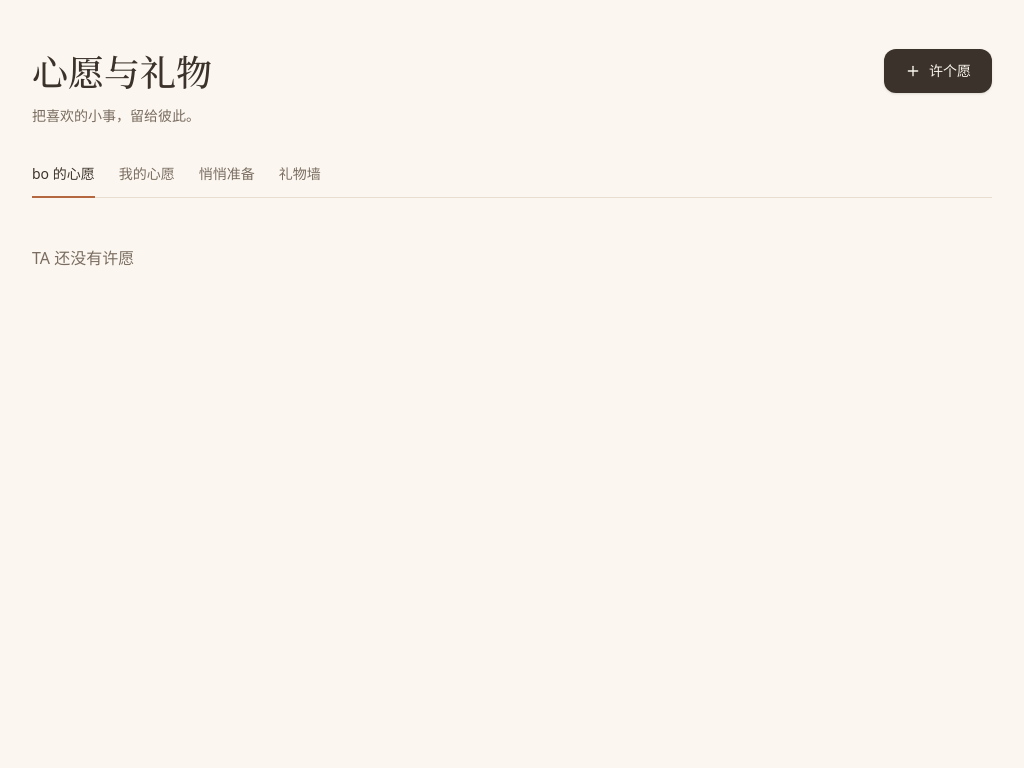
WishesPage › [adr:digital-paper-interface#2] adds a wish from its dialog, keeping what was typed when closed unsent, then shows my list
Click the button "许个愿" at [938, 70], box [884,48,992,92]
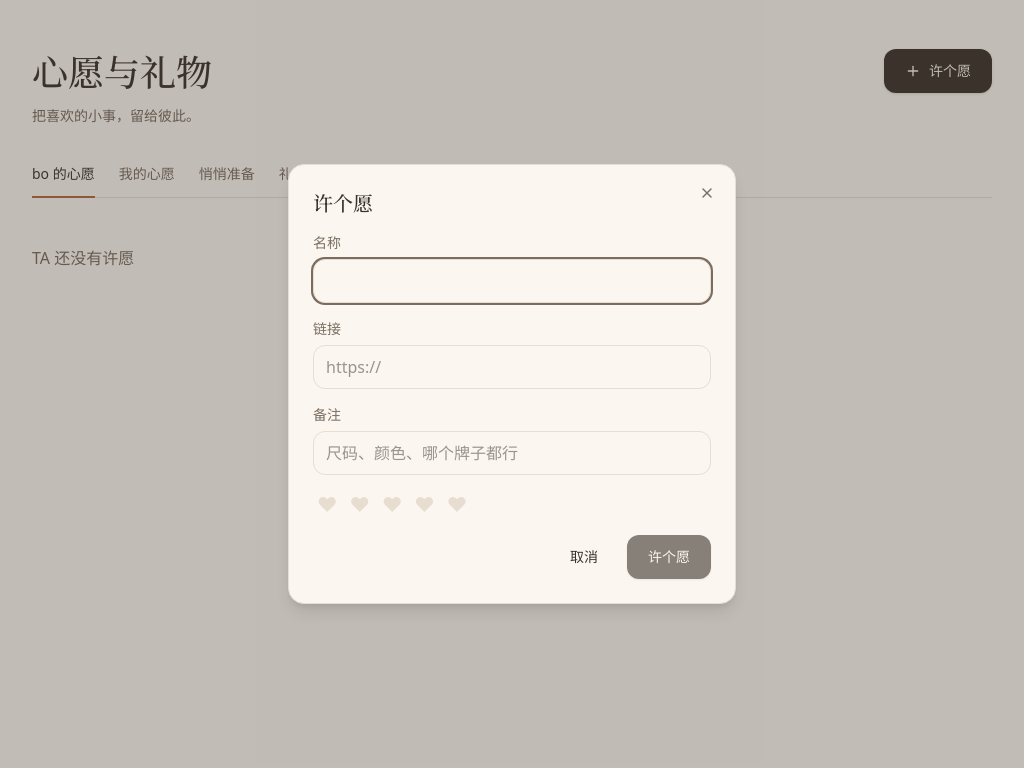
Type "灰色围巾" into the field labelled "名称" at [512, 281], box [313,259,711,303]
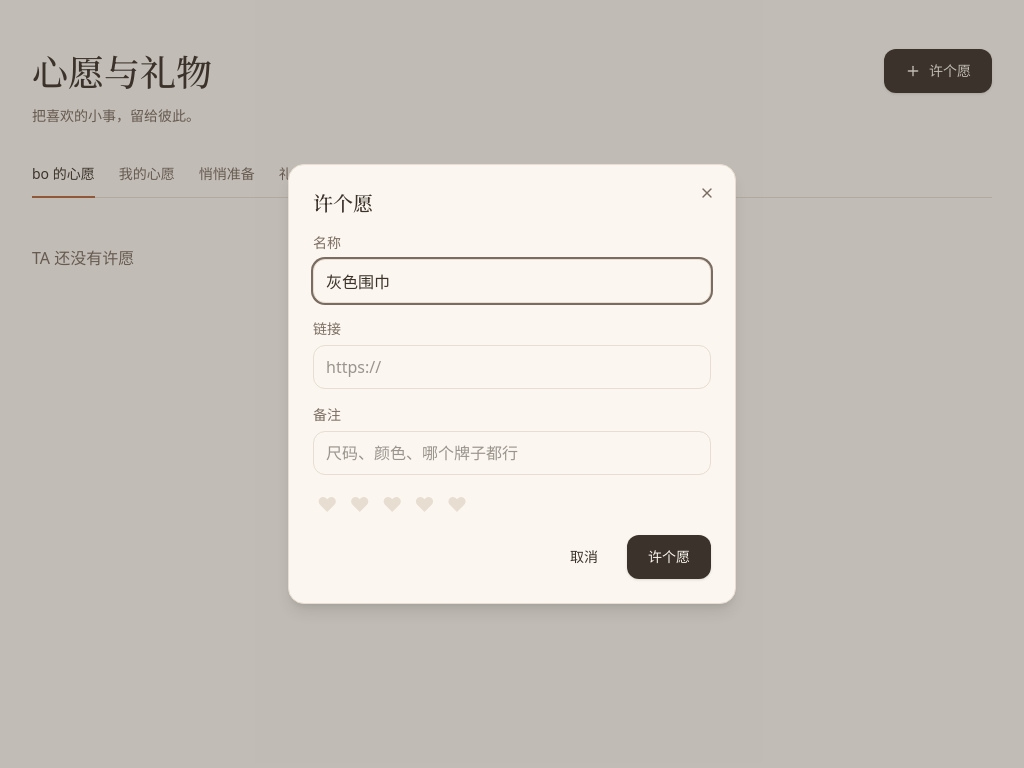
Click the button "取消" at [584, 557], box [549,535,619,579]
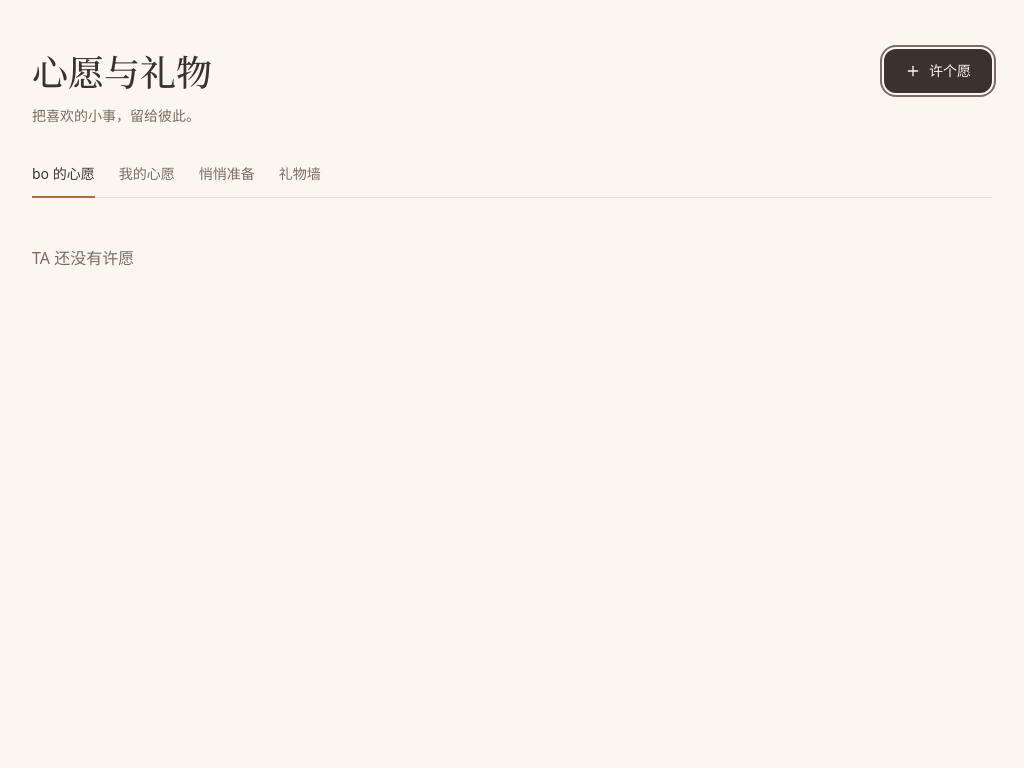
Result: the dialog is gone
Click the button "许个愿" at [938, 70], box [884,48,992,92]
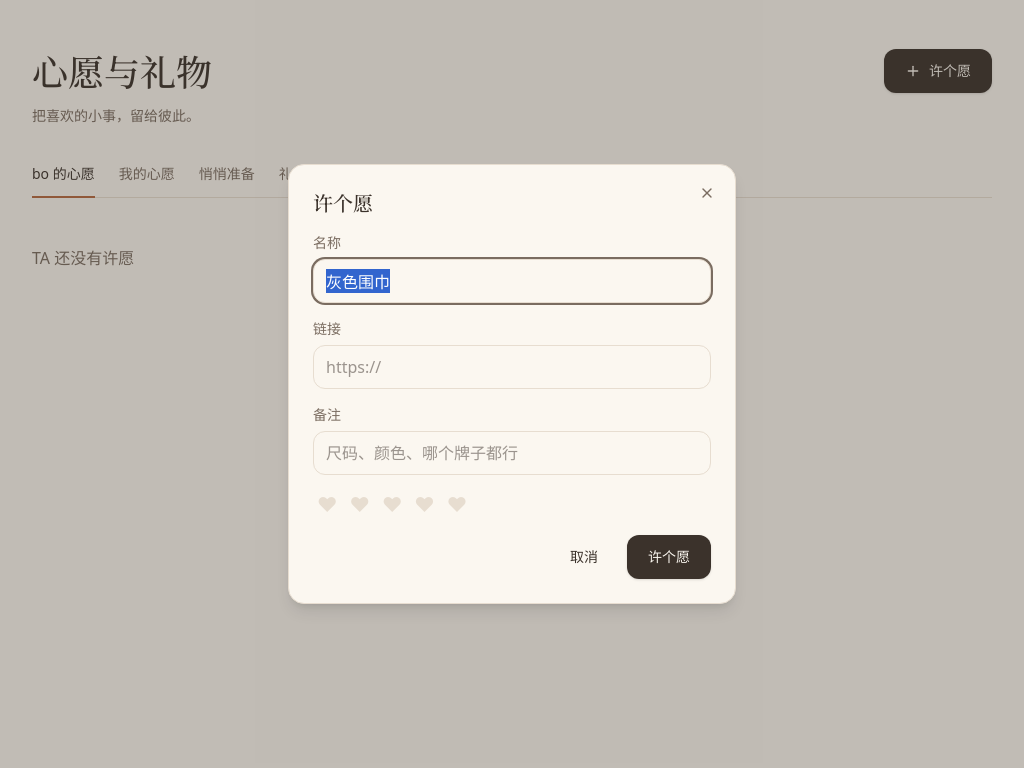
Result: the field labelled "名称" holds "灰色围巾" at [313,259,711,303]
Click the button named "3 颗心" at [392, 505], box [378,491,406,519]
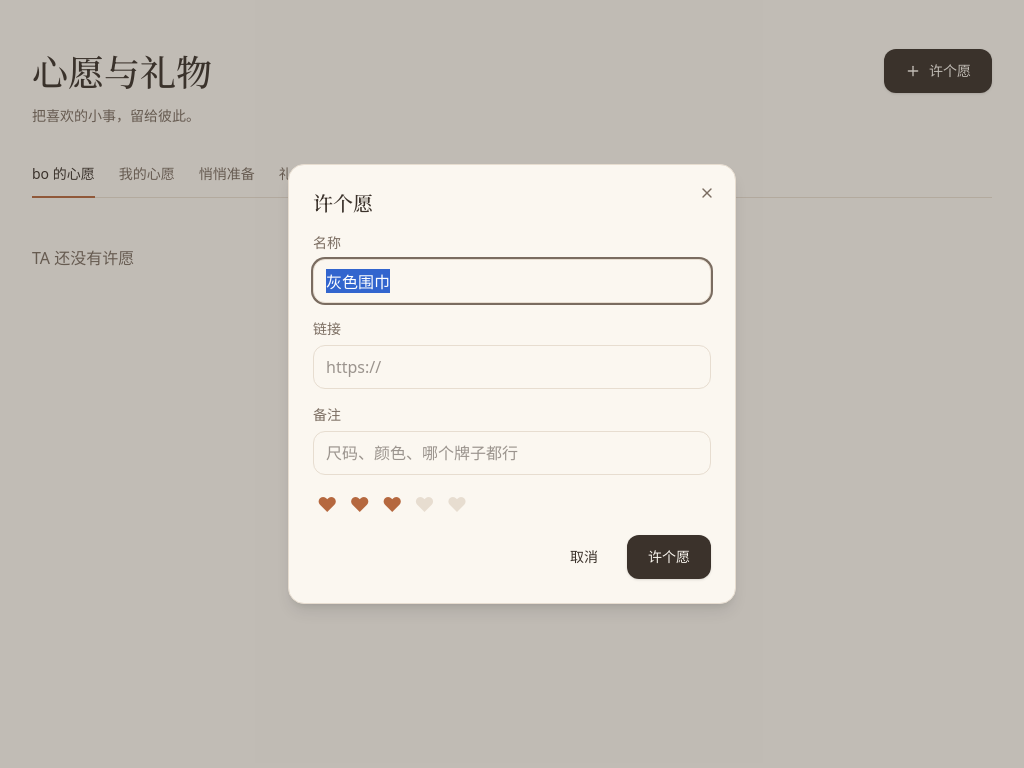
Click the button "许个愿" at [669, 557], box [627,535,711,579]
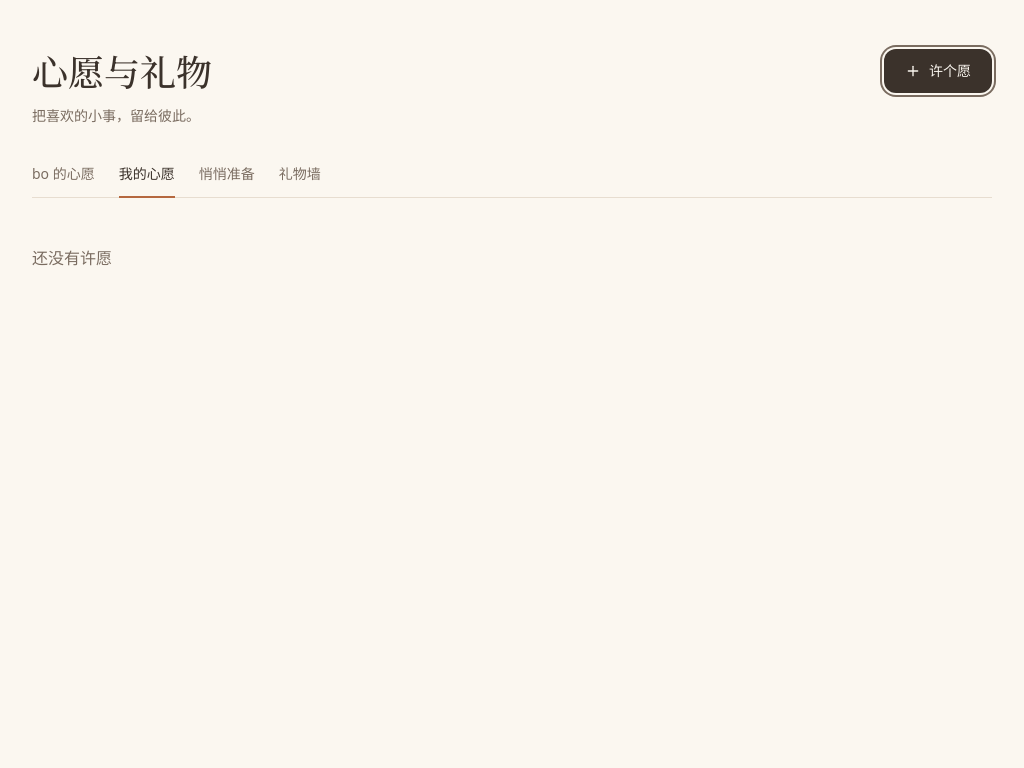
Result: the dialog is gone
